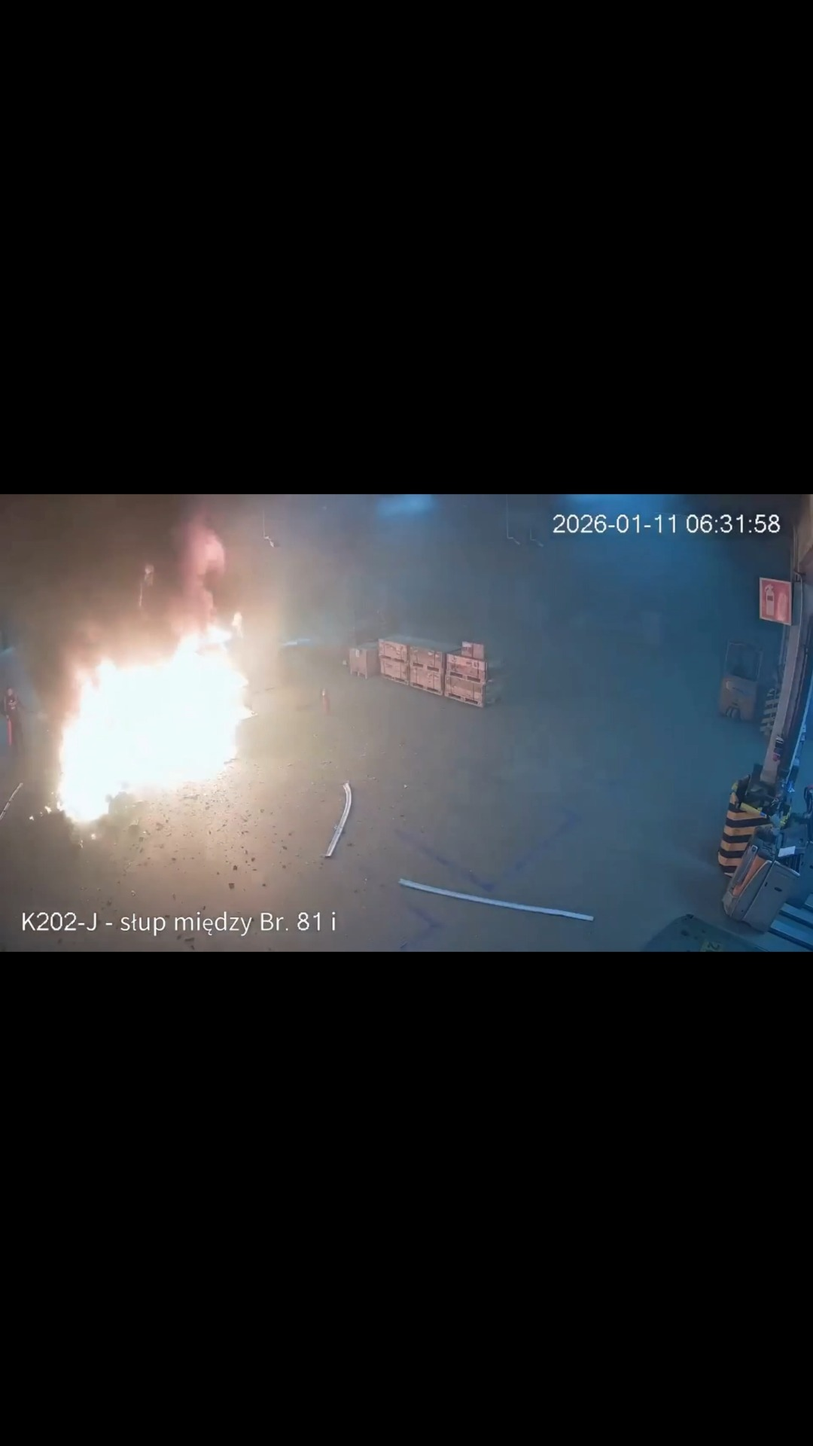fire: (40, 592, 263, 837)
